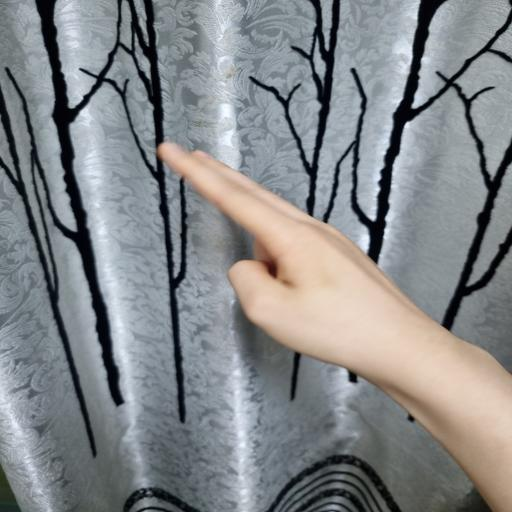Scissors: (157, 141, 512, 512)
